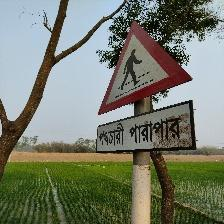Pedestrian-crossing: (95, 19, 197, 154)
